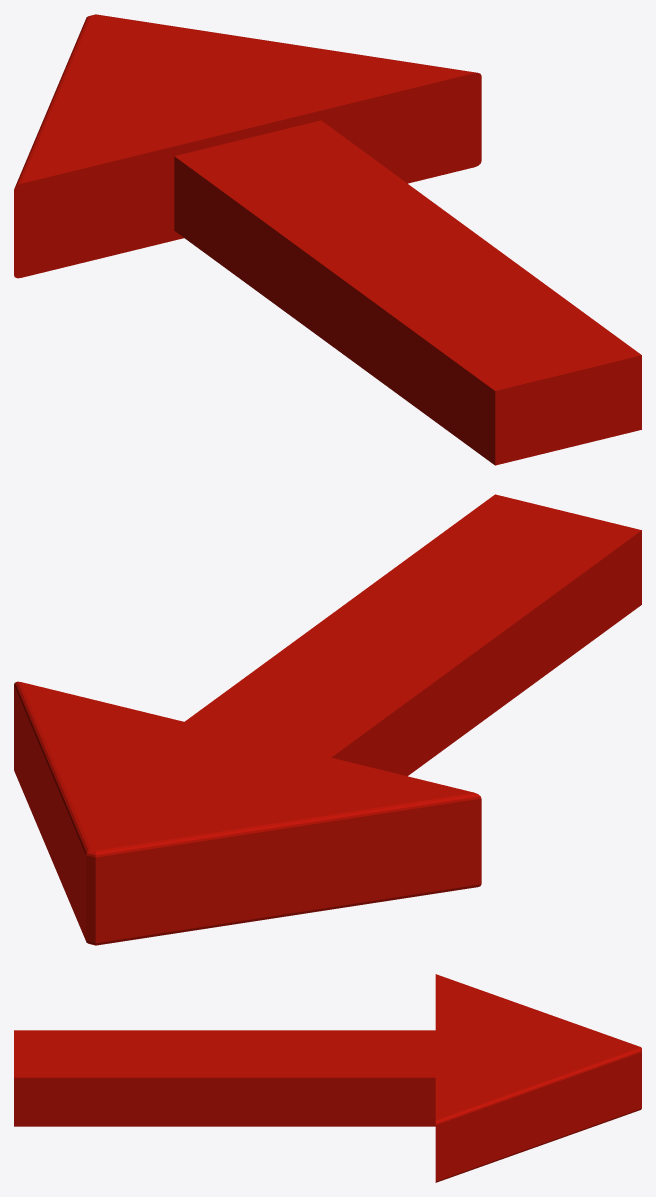
File: yajirusi.glb
3 renders of one model, top to bottom at view 1: azimuth 30°, elevation 25°; view 2: azimuth 150°, elevation 25°; view 3: azimuth 270°, elevation 25°, orthographic. The views are drawn at different scales.
Visible parts, largest first — view 1: Cube; view 2: Cube; view 3: Cube.
Boxes of the visible parts, x1=… form: Cube: x1=14, y1=14, x2=641, y2=465; Cube: x1=14, y1=494, x2=641, y2=945; Cube: x1=14, y1=974, x2=641, y2=1182.
Size of the model in its own units: 1.87 by 0.3596 by 3.31.
